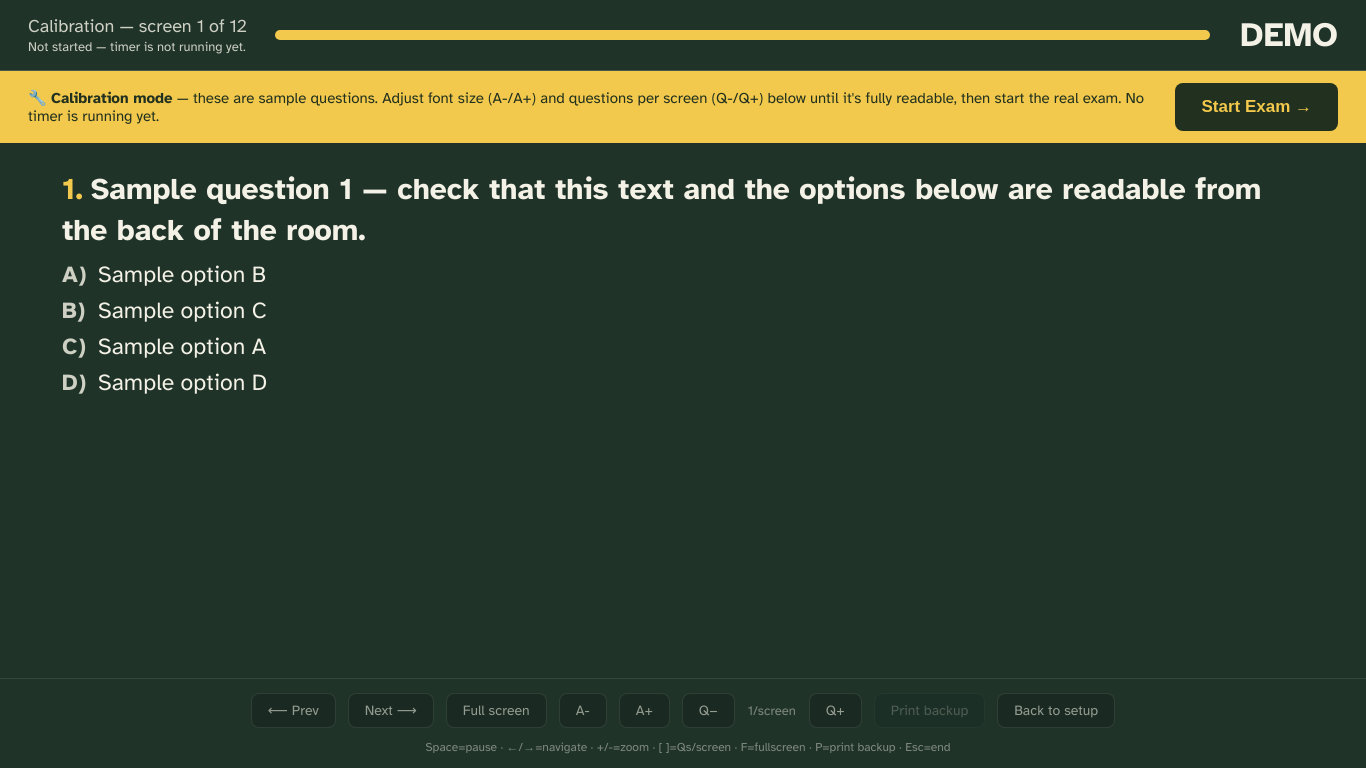
Test: SlideshowScreen (real exam timer — Milestone 6a) › ticks the countdown down every second and updates the overall total
The width and height of the screenshot is (1366, 768).
Click the button "Start Exam →".
click(1257, 107)  # box [1176,83,1338,131]
Wait 2000 ms
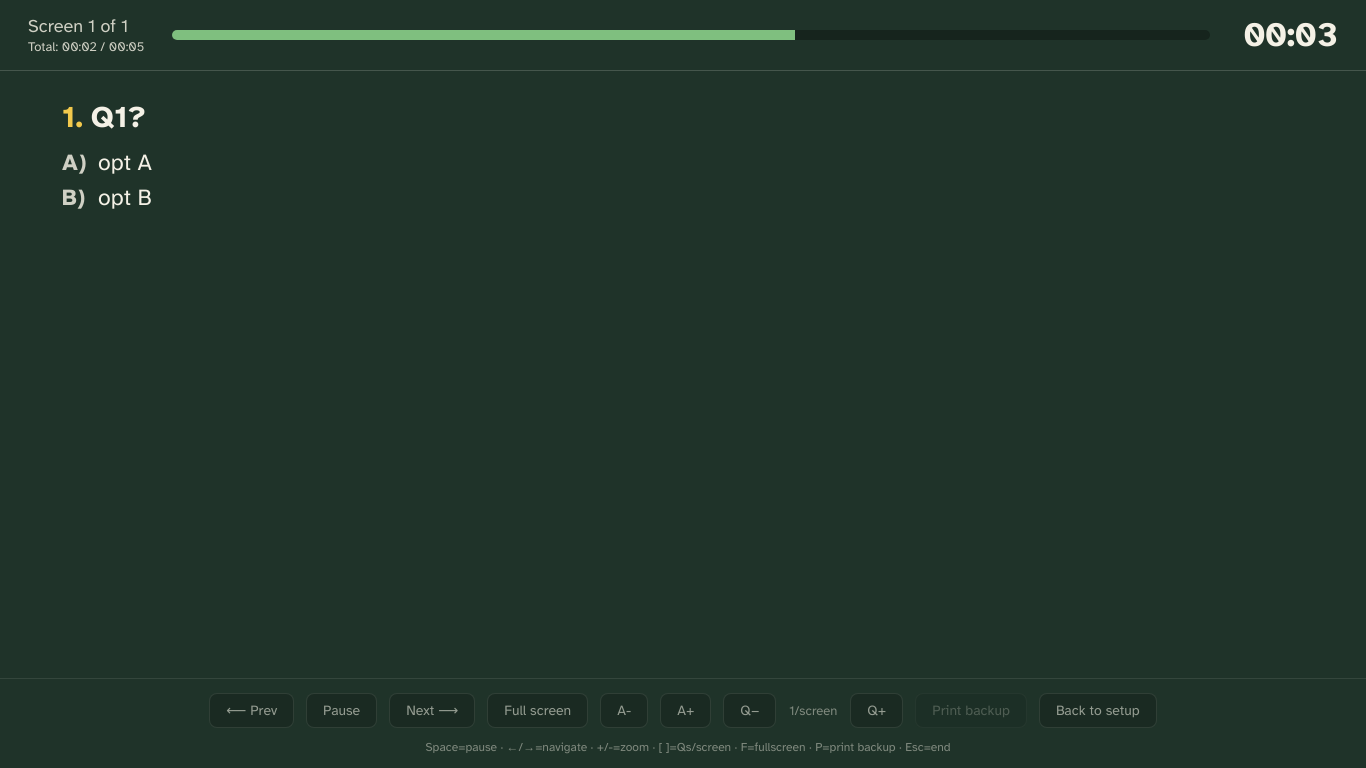
Expected: the text "00:03" is shown, [1238,14,1338,56]
Expected: the text "Total: 00:02 / 00:05" is shown, [28,39,144,55]
